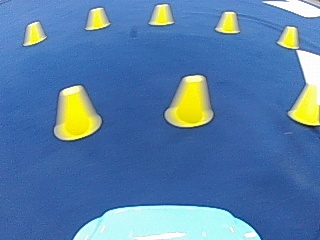cone: (54, 84, 100, 140), (166, 74, 213, 128), (287, 77, 319, 125), (85, 6, 110, 30), (148, 3, 174, 26), (214, 11, 240, 34), (23, 21, 46, 45), (276, 25, 299, 48)
